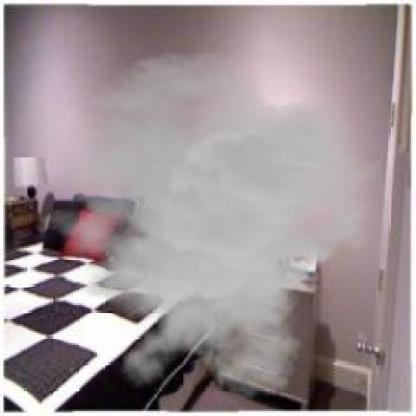Smoke: (23, 50, 383, 402)
